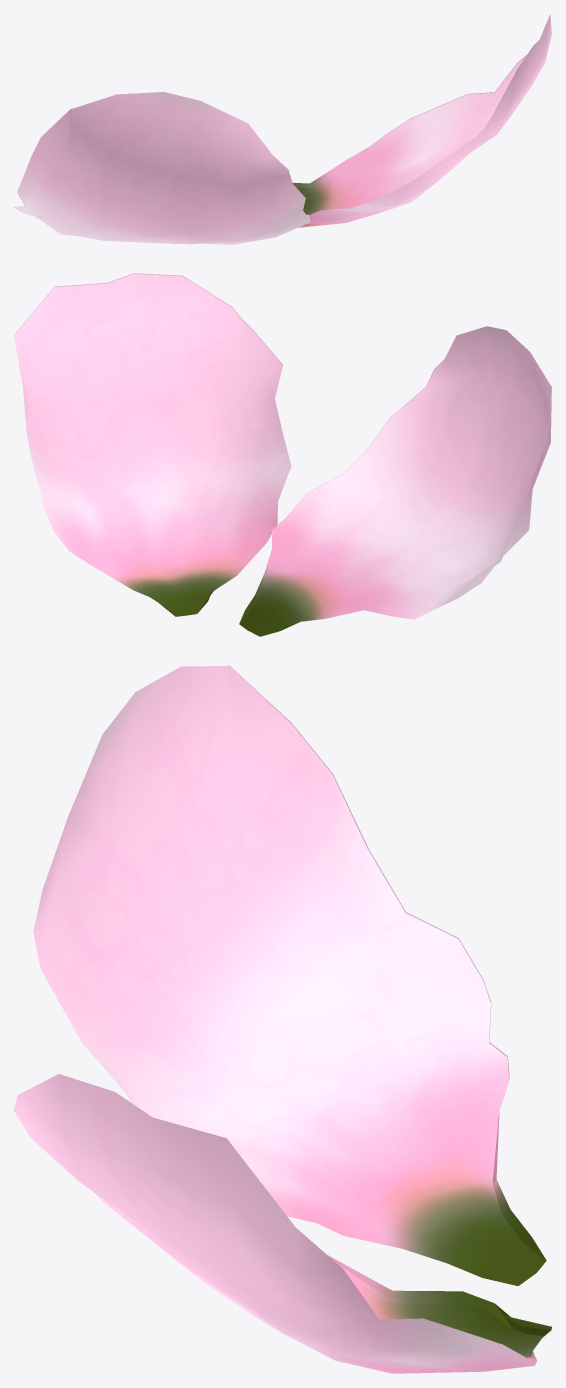
File: Petal_01.gltf
3 views of the same model, one above another, from view 1: azimuth 30°, elevation 25°; view 2: azimuth 150°, elevation 25°; view 3: azimuth 270°, elevation 25° (orthographic). The views are drawn at different scales.
Parts seen in each view (by area): view 1: Petal_01; view 2: Petal_01; view 3: Petal_01.
Part boxes in pixels (x1=…): Petal_01: x1=14, y1=14, x2=551, y2=244; Petal_01: x1=14, y1=273, x2=551, y2=636; Petal_01: x1=14, y1=665, x2=551, y2=1373.
Bounding box in the file's own units: 26.36 × 12.12 × 12.85.
1 material, 1 textured.
